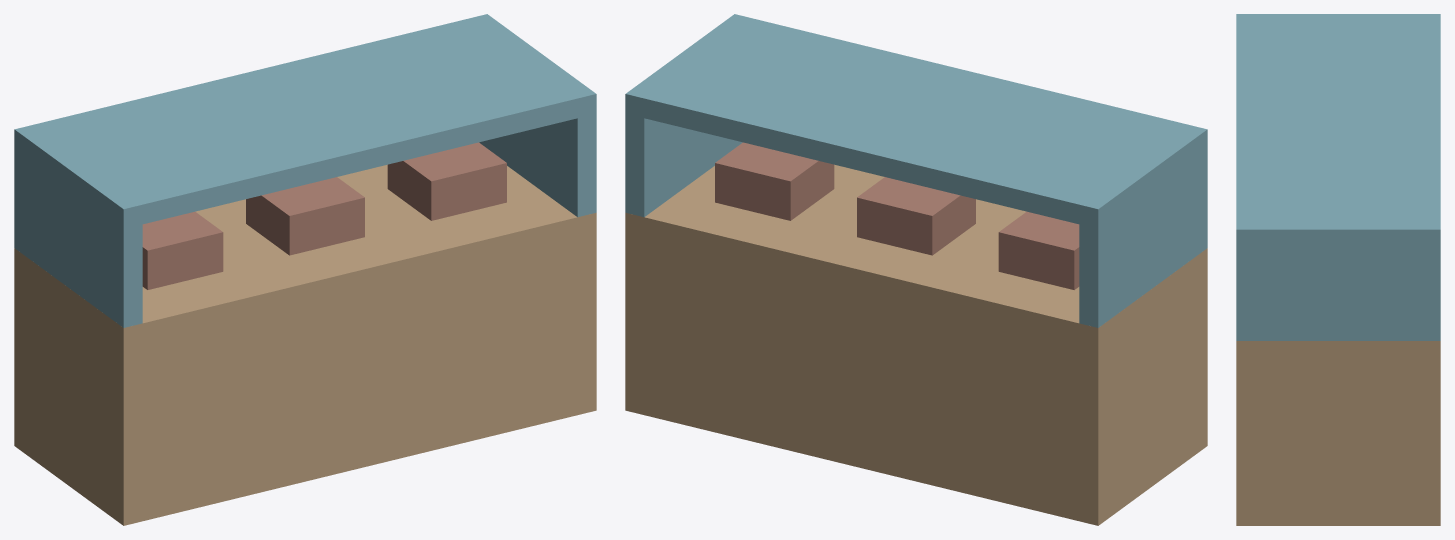
The model's file is voxel-city-districts-bakery-counter-b243ea65__24872.glb.
The picture shows the model from 3 angles, left to right: view 1: azimuth 30°, elevation 25°; view 2: azimuth 150°, elevation 25°; view 3: azimuth 270°, elevation 25°; orthographic projection. The views are drawn at different scales.
Parts seen in each view (by area): view 1: bakery-counter-wood, bakery-counter-glass, bakery-counter-roof; view 2: bakery-counter-wood, bakery-counter-glass, bakery-counter-roof; view 3: bakery-counter-glass, bakery-counter-wood.
Boxes of the visible parts, box(x1,y1,x2,y2) form: bakery-counter-wood: box(14, 164, 596, 525); bakery-counter-glass: box(14, 14, 596, 327); bakery-counter-roof: box(142, 142, 506, 289); bakery-counter-wood: box(625, 164, 1207, 525); bakery-counter-glass: box(625, 14, 1207, 327); bakery-counter-roof: box(715, 142, 1079, 289); bakery-counter-glass: box(1236, 14, 1440, 340); bakery-counter-wood: box(1236, 341, 1440, 525).
Bounding box in the file's own units: 2.5 × 1.6 × 0.9999.
